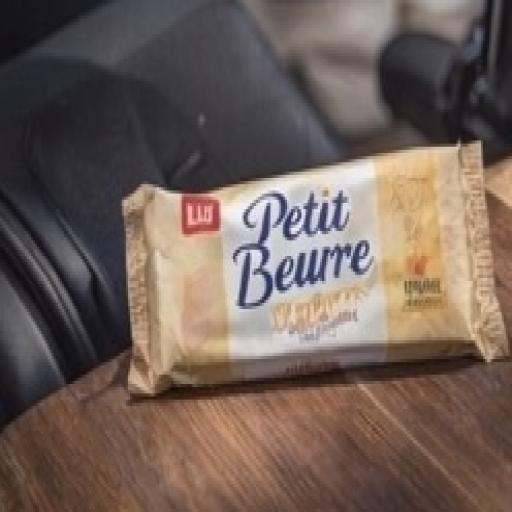petit-beurre: (105, 100, 512, 428)
